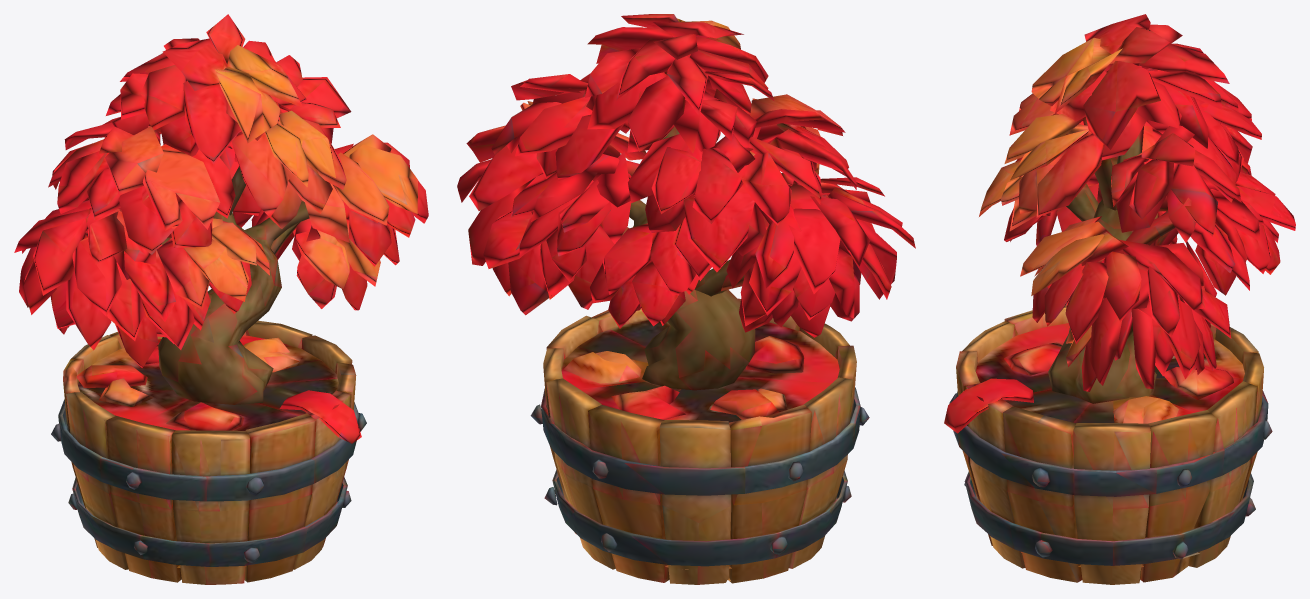
File: fest_maple.glb
3 renders of one model, left to right at view 1: azimuth 30°, elevation 25°; view 2: azimuth 150°, elevation 25°; view 3: azimuth 270°, elevation 25°, orthographic. The views are drawn at different scales.
Bounding box in the file's own units: 0.8376 × 1 × 0.6204.
1 material, 1 textured.
